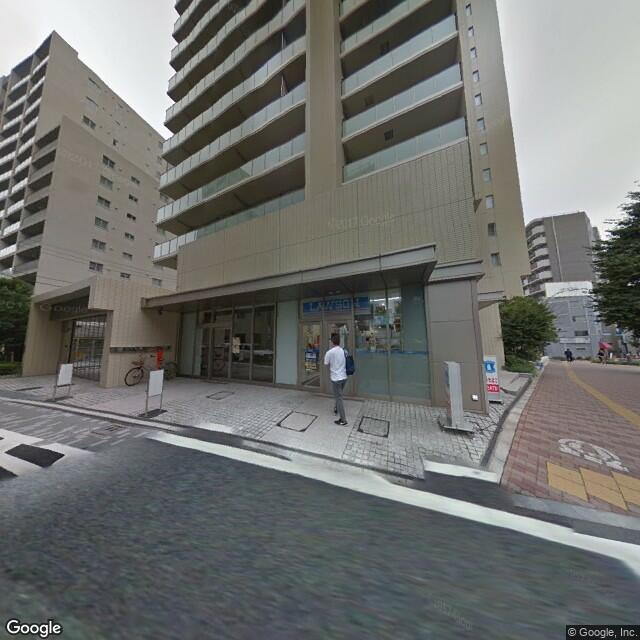lawson: (302, 290, 372, 321), (482, 358, 499, 380)
